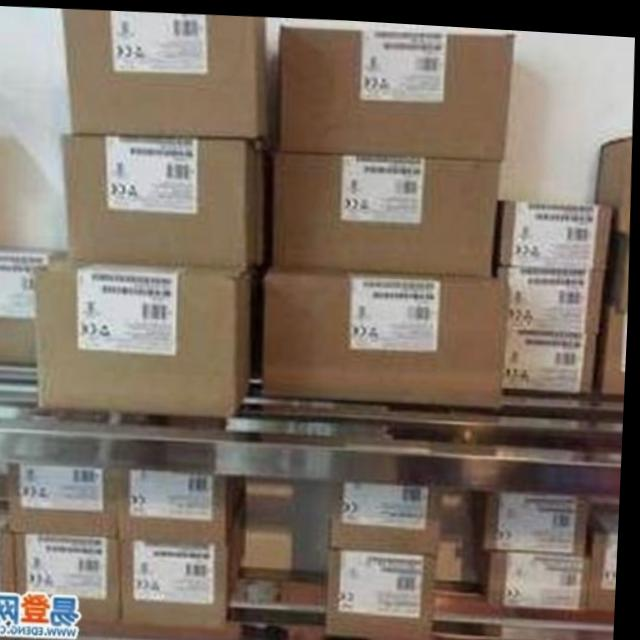box: (37, 256, 258, 418), (261, 266, 512, 403), (281, 19, 515, 155), (59, 9, 269, 147), (274, 147, 504, 270), (61, 133, 266, 263), (124, 500, 249, 622), (4, 533, 126, 618), (330, 547, 441, 635), (120, 467, 249, 542), (494, 191, 612, 263), (10, 465, 121, 540), (0, 246, 71, 363), (333, 477, 449, 548), (495, 259, 604, 326), (490, 545, 596, 613), (487, 483, 596, 547), (594, 223, 630, 386), (507, 323, 598, 386), (588, 482, 622, 613), (596, 129, 631, 226)
